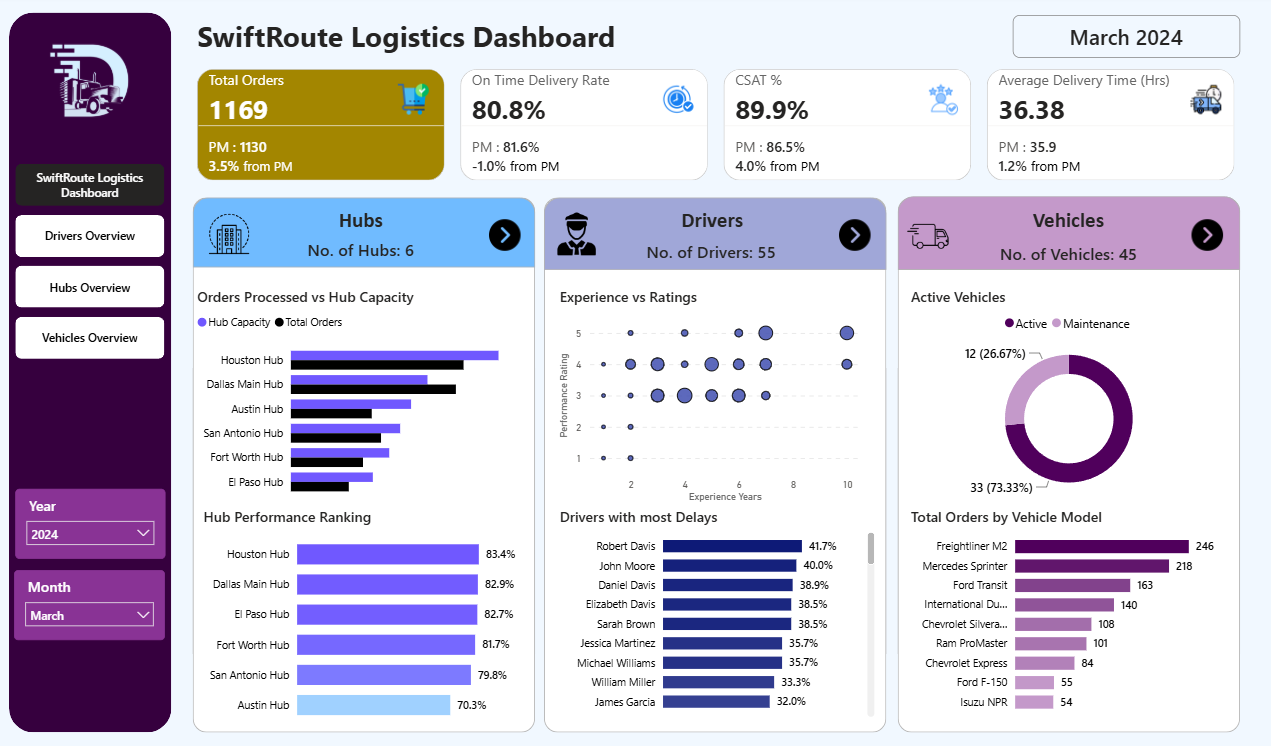

The page's visual inventory and layout, read from the dashboard file:
{"tool":"powerbi","page":{"name":"SwiftRoute Logistics Dashboard","canvas":[1450,850],"ordinal":0},"visuals":[{"type":"shape","box":[11.4,14.2,185.2,820.4],"z":0},{"type":"textbox","box":[220.8,14.2,489.9,54.1],"z":1000},{"type":"slicer","fields":{"Values":["Date Table.Year"]},"box":[18.5,556.9,170.9,79.8],"z":2000},{"type":"slicer","fields":{"Values":["Date Table.MONTH"]},"box":[17.1,649.5,172.3,79.8],"z":3000},{"type":"cardVisual","fields":{"Data":["Orders.Total Orders","Orders.On Time Delivery Rate","Orders.CSAT %","Orders.Average Delivery Time (Hrs)"]},"box":[220.8,68.4,1193.5,142.4],"z":4000},{"type":"shape","box":[220.8,225,390,609.6],"z":5000},{"type":"shape","box":[220.8,225,390.3,79.8],"z":6000},{"type":"textbox","box":[377.4,230.7,69.8,52.7],"z":7000},{"type":"cardVisual","fields":{"Data":["Hubs.No.of Hubs"]},"box":[333.3,262.1,158.1,42.7],"z":8000},{"type":"clusteredBarChart","title":"Orders Processed vs Hub Capacity","fields":{"Category":["Hubs.HubName"],"Y":["Sum(Hubs.Hub Capacity)","Orders.Total Orders"]},"box":[220.8,326.2,366,250.7],"z":9000},{"type":"barChart","title":"Hub Performance Ranking","fields":{"Category":["Hubs.HubName"],"Y":["Orders.On Time Delivery Rate"]},"box":[227.9,576.8,366,257.8],"z":10000},{"type":"shape","box":[621,225,390,609.6],"z":11000},{"type":"shape","box":[621,225,390.3,82.6],"z":12000},{"type":"shape","box":[1024.1,225,390,609.6],"z":13000},{"type":"shape","box":[1024.1,223.6,390.3,84],"z":14000},{"type":"cardVisual","fields":{"Data":["Drivers.No. of Drivers"]},"box":[707.9,264.9,207.9,42.7],"z":15000},{"type":"textbox","box":[754.9,230.7,115.4,52.7],"z":16000},{"type":"scatterChart","title":"Experience vs Ratings","fields":{"X":["Drivers.Experience Years"],"Y":["Drivers.Performance Rating"],"Size":["Sum(Drivers.Experience Years)"]},"box":[633.8,326.2,358.9,250.7],"z":17000},{"type":"textbox","box":[1160.8,230.7,115.4,52.7],"z":18000},{"type":"cardVisual","fields":{"Data":["Vehicles.No. of Vehicles"]},"box":[1115.2,266.3,207.9,42.7],"z":19000},{"type":"donutChart","title":"Active Vehicles","fields":{"Category":["Vehicles.Vehicle Status"],"Y":["CountNonNull(Vehicles.Vehicle ID)"]},"box":[1034,326.2,370.3,250.7],"z":20000},{"type":"barChart","title":"Drivers with most Delays","fields":{"Category":["Drivers.DriverName"],"Y":["Drivers.Delayed Delivery Rate"]},"box":[633.8,576.8,368.9,245],"z":21000},{"type":"barChart","fields":{"Category":["Vehicles.Vehicle Model"],"Y":["Orders.Total Orders"]},"box":[1034,576.8,370.3,245],"z":22000},{"type":"image","box":[39.9,41.3,128.2,108.2],"z":23000},{"type":"cardVisual","fields":{"Data":["Orders.Year Month Title"]},"box":[1155.1,17.1,259.2,48.4],"z":24000},{"type":"image","box":[957.1,245,35.6,45.6],"z":25000},{"type":"image","box":[1358.8,245,35.6,45.6],"z":26000},{"type":"image","box":[558.3,245,35.6,45.6],"z":27000},{"type":"pageNavigator","box":[18.5,186.6,170.9,222],"z":28000},{"type":"image","box":[452.9,95.4,38.5,35],"z":29000},{"type":"image","box":[754.9,95.4,38.5,35],"z":30000},{"type":"image","box":[1056.8,95.4,38.5,35.6],"z":31000},{"type":"image","box":[1355.9,95.4,38.5,35.6],"z":32000},{"type":"image","box":[237.9,242.1,48.4,48.4],"z":33000},{"type":"image","box":[633.8,242.1,48.4,48.4],"z":34000},{"type":"image","box":[1034,245,48.4,48.4],"z":35000}]}

Visuals, with their boxes on the page's 1450x850 design canvas (x1, y1, x2, y2). These are canvas units, not pixel positions in the 1271x746 screenshot, which may show the page scaled, cropped or inside an application window:
shape: [x1=11, y1=14, x2=197, y2=835]
textbox: [x1=221, y1=14, x2=711, y2=68]
slicer - Date Table.Year: [x1=18, y1=557, x2=189, y2=637]
slicer - Date Table.MONTH: [x1=17, y1=650, x2=189, y2=729]
cardVisual - Orders.Total Orders x Orders.On Time Delivery Rate: [x1=221, y1=68, x2=1414, y2=211]
shape: [x1=221, y1=225, x2=611, y2=835]
shape: [x1=221, y1=225, x2=611, y2=305]
textbox: [x1=377, y1=231, x2=447, y2=283]
cardVisual - Hubs.No.of Hubs: [x1=333, y1=262, x2=491, y2=305]
"Orders Processed vs Hub Capacity" clusteredBarChart: [x1=221, y1=326, x2=587, y2=577]
"Hub Performance Ranking" barChart: [x1=228, y1=577, x2=594, y2=835]
shape: [x1=621, y1=225, x2=1011, y2=835]
shape: [x1=621, y1=225, x2=1011, y2=308]
shape: [x1=1024, y1=225, x2=1414, y2=835]
shape: [x1=1024, y1=224, x2=1414, y2=308]
cardVisual - Drivers.No. of Drivers: [x1=708, y1=265, x2=916, y2=308]
textbox: [x1=755, y1=231, x2=870, y2=283]
"Experience vs Ratings" scatterChart: [x1=634, y1=326, x2=993, y2=577]
textbox: [x1=1161, y1=231, x2=1276, y2=283]
cardVisual - Vehicles.No. of Vehicles: [x1=1115, y1=266, x2=1323, y2=309]
"Active Vehicles" donutChart: [x1=1034, y1=326, x2=1404, y2=577]
"Drivers with most Delays" barChart: [x1=634, y1=577, x2=1003, y2=822]
barChart - Vehicles.Vehicle Model x Orders.Total Orders: [x1=1034, y1=577, x2=1404, y2=822]
image: [x1=40, y1=41, x2=168, y2=150]
cardVisual - Orders.Year Month Title: [x1=1155, y1=17, x2=1414, y2=66]
image: [x1=957, y1=245, x2=993, y2=291]
image: [x1=1359, y1=245, x2=1394, y2=291]
image: [x1=558, y1=245, x2=594, y2=291]
pageNavigator: [x1=18, y1=187, x2=189, y2=409]
image: [x1=453, y1=95, x2=491, y2=130]
image: [x1=755, y1=95, x2=793, y2=130]
image: [x1=1057, y1=95, x2=1095, y2=131]
image: [x1=1356, y1=95, x2=1394, y2=131]
image: [x1=238, y1=242, x2=286, y2=290]
image: [x1=634, y1=242, x2=682, y2=290]
image: [x1=1034, y1=245, x2=1082, y2=293]
